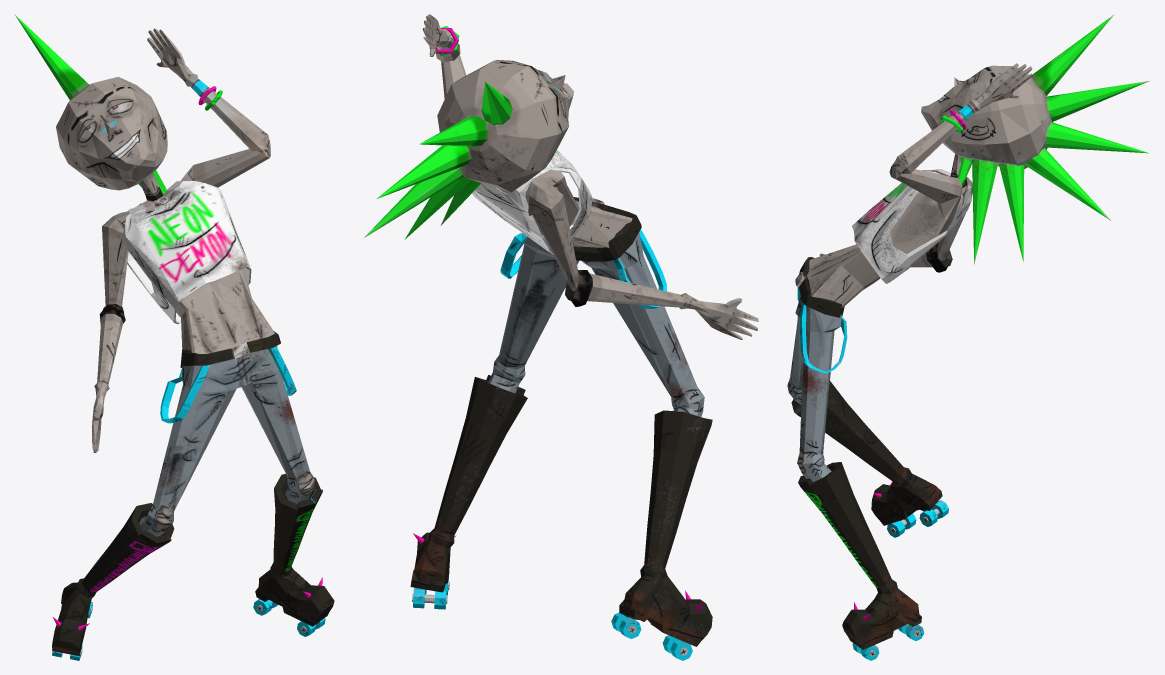
File: punkAnimation_000112.obj
The picture shows the model from 3 angles, left to right: view 1: azimuth 30°, elevation 25°; view 2: azimuth 150°, elevation 25°; view 3: azimuth 270°, elevation 25°; orthographic projection. The views are drawn at different scales.
Parts seen in each view (by area): view 1: Cube.004_Cube.003; view 2: Cube.004_Cube.003; view 3: Cube.004_Cube.003.
Part boxes in pixels (<box>): Cube.004_Cube.003: <box>14,14,334,660</box>; Cube.004_Cube.003: <box>364,14,758,660</box>; Cube.004_Cube.003: <box>787,15,1149,660</box>.
Size of the model in its own units: 2.93 by 5.98 by 3.52.
